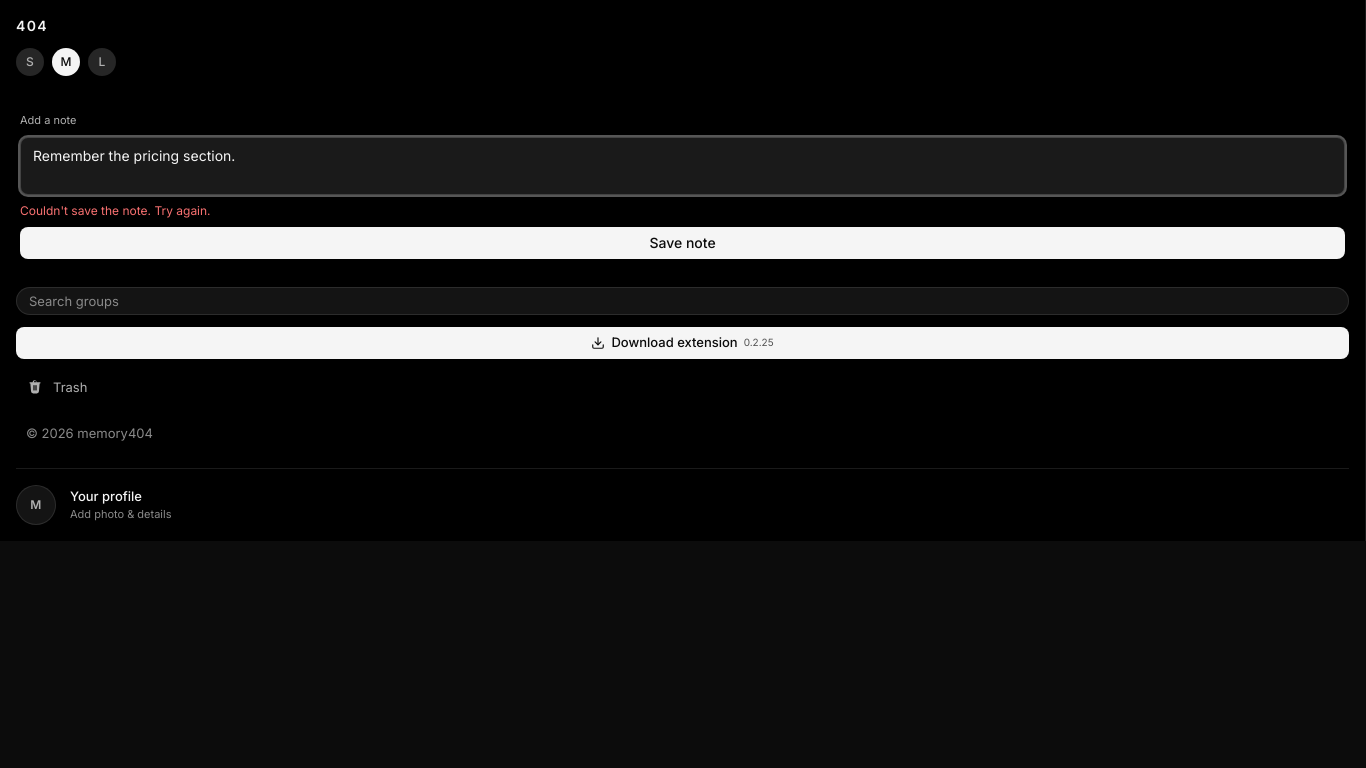
Scenario: sidebar note errors › puts a failed note on the note field and clears it when the note changes
Expected: the message reads "Couldn't save the note. Try again.", [20,202,211,218]
Replace the text in the text box labelled "Add a note" with "Remember the new price." at point(682, 166), box [20,136,1345,194]
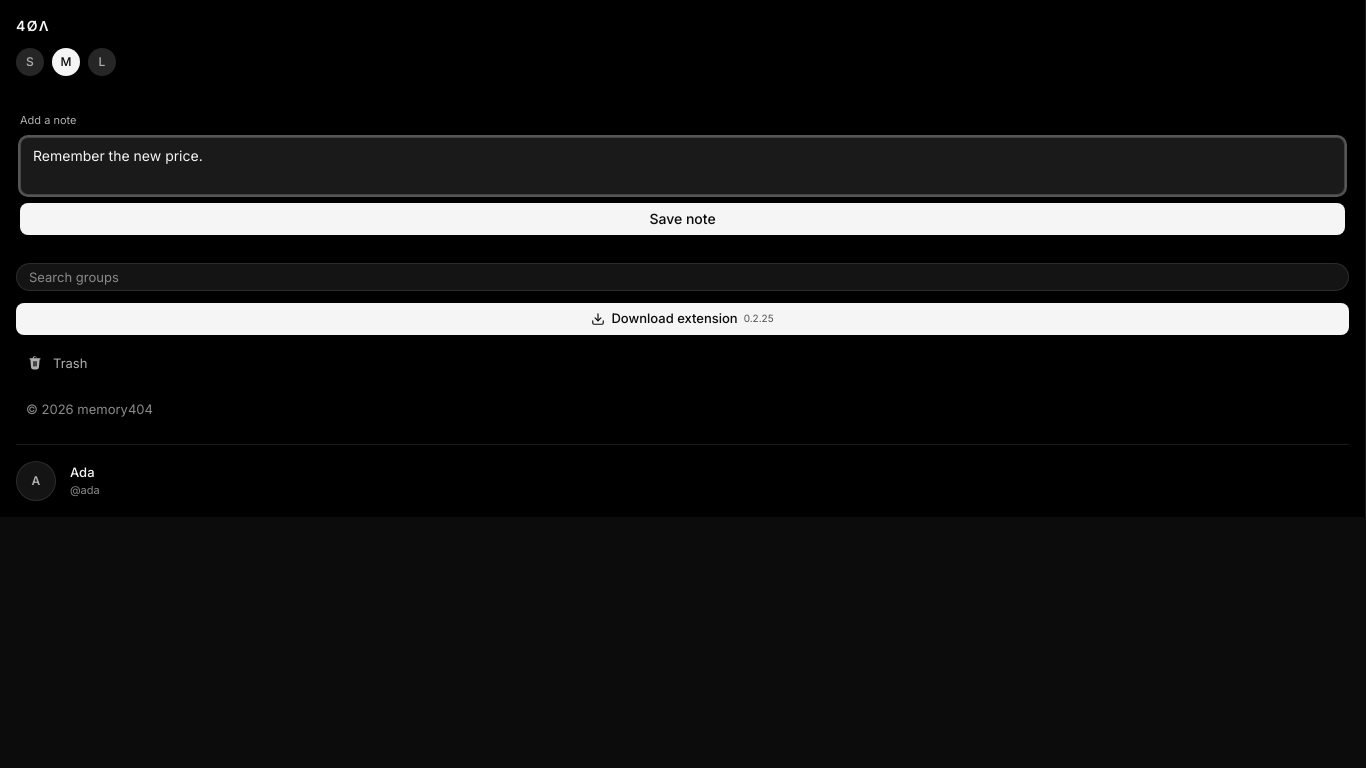
Expected: the message "Couldn't save the note. Try again." is gone
